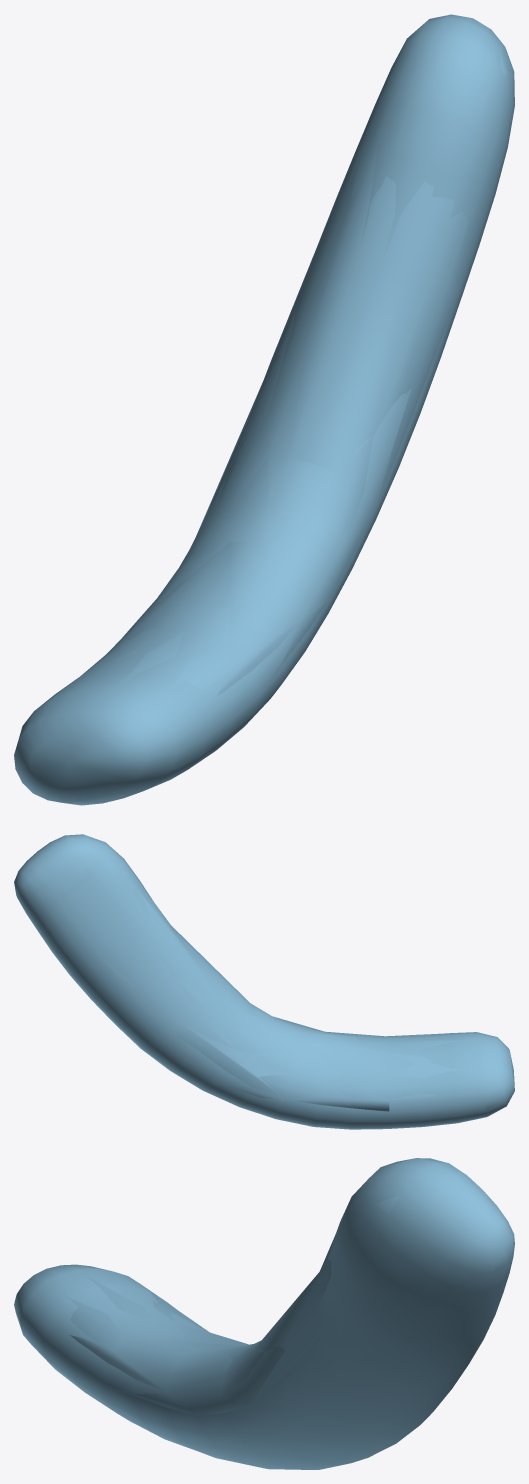
3 views of the same model, one above another, from view 1: azimuth 30°, elevation 25°; view 2: azimuth 150°, elevation 25°; view 3: azimuth 270°, elevation 25° (orthographic). The views are drawn at different scales.
Visible parts, largest first — view 1: CC L4, CC L4 low; view 2: CC L4, CC L4 low; view 3: CC L4, CC L4 low.
Part boxes in pixels (box(x1,y1,x2,y2)): CC L4: box(14, 14, 514, 805); CC L4 low: box(52, 18, 510, 785); CC L4: box(14, 834, 514, 1129); CC L4 low: box(14, 836, 504, 1122); CC L4: box(14, 1158, 514, 1469); CC L4 low: box(24, 1158, 505, 1439).
Size of the model in its own units: 9.25 by 6.66 by 6.74.
